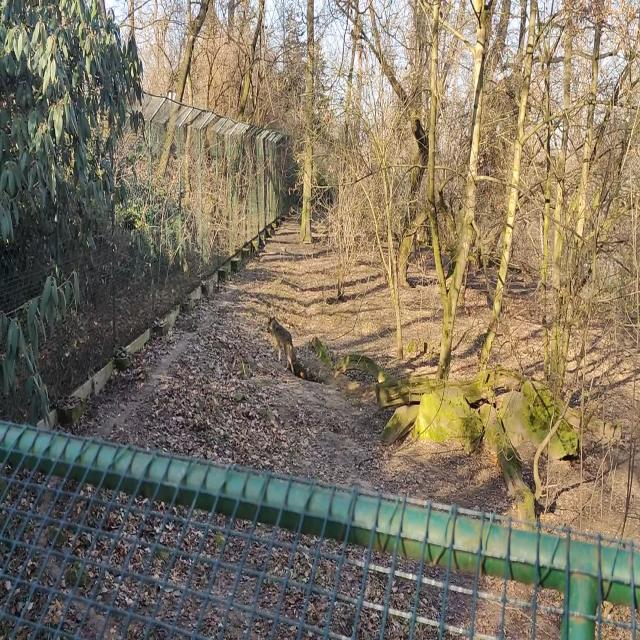dog: (267, 315, 295, 375)
